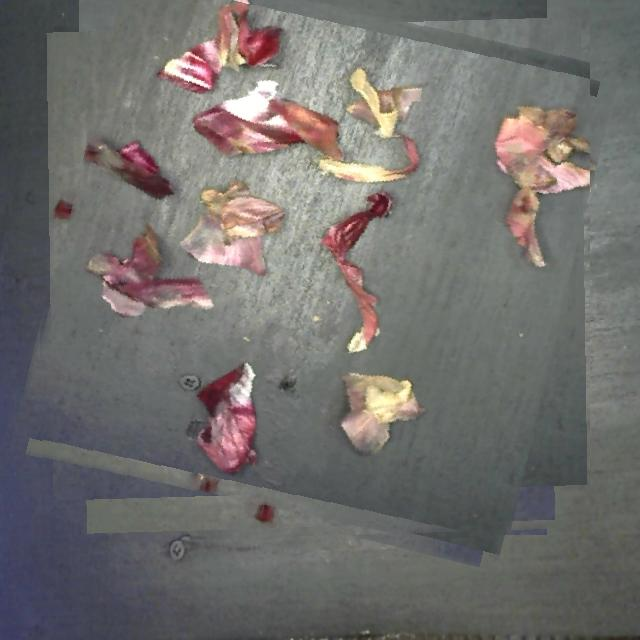biodegradable: (35, 0, 590, 544)
